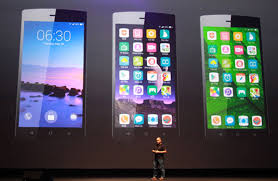bphone: (10, 6, 89, 139), (106, 9, 181, 142), (197, 9, 271, 141)
